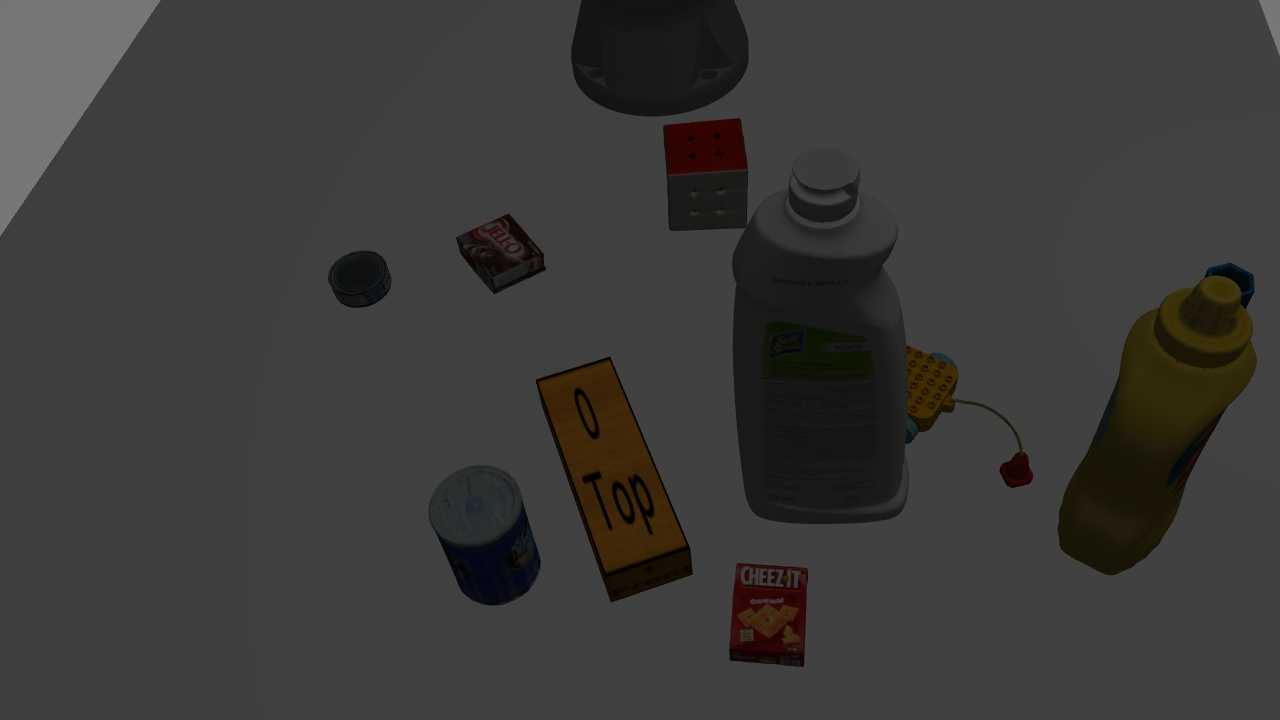jenga: (532, 354, 689, 608)
master_chef_can: (426, 452, 547, 600)
mustard_bottle: (1056, 270, 1246, 581)
pudding_box: (456, 212, 547, 292)
rubiks_cube: (652, 108, 753, 228)
